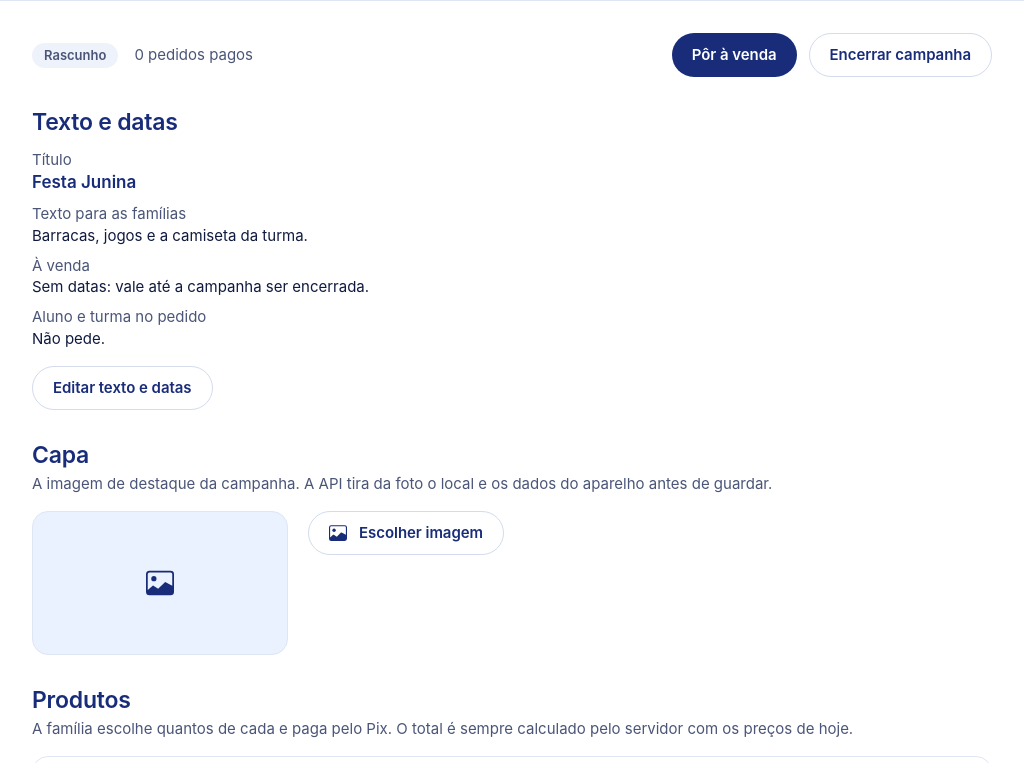
Test: editor de uma campanha › 409 (a campanha mudou por baixo): avisa e recarrega do servidor
Click the button "Editar texto e datas" at (122, 388), box [32,366,213,410]
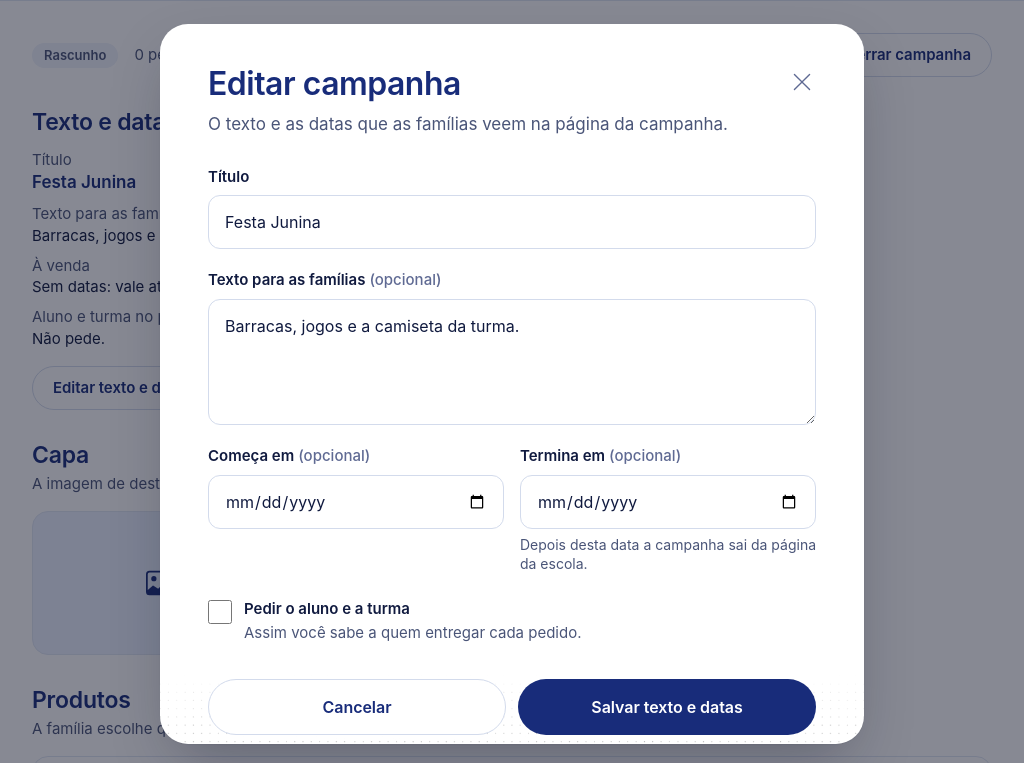
Type "!" into the field labelled "Título" at (512, 222), box [208,195,816,249]
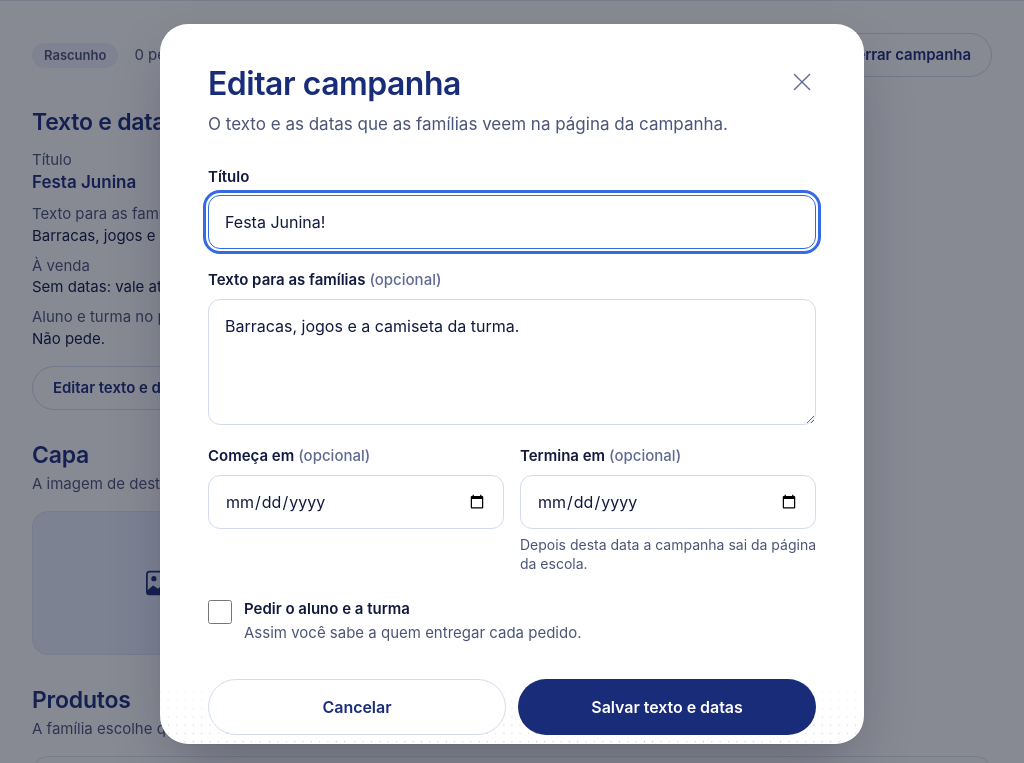
Click the button "Salvar texto e datas" at (667, 707), box [518,679,816,735]
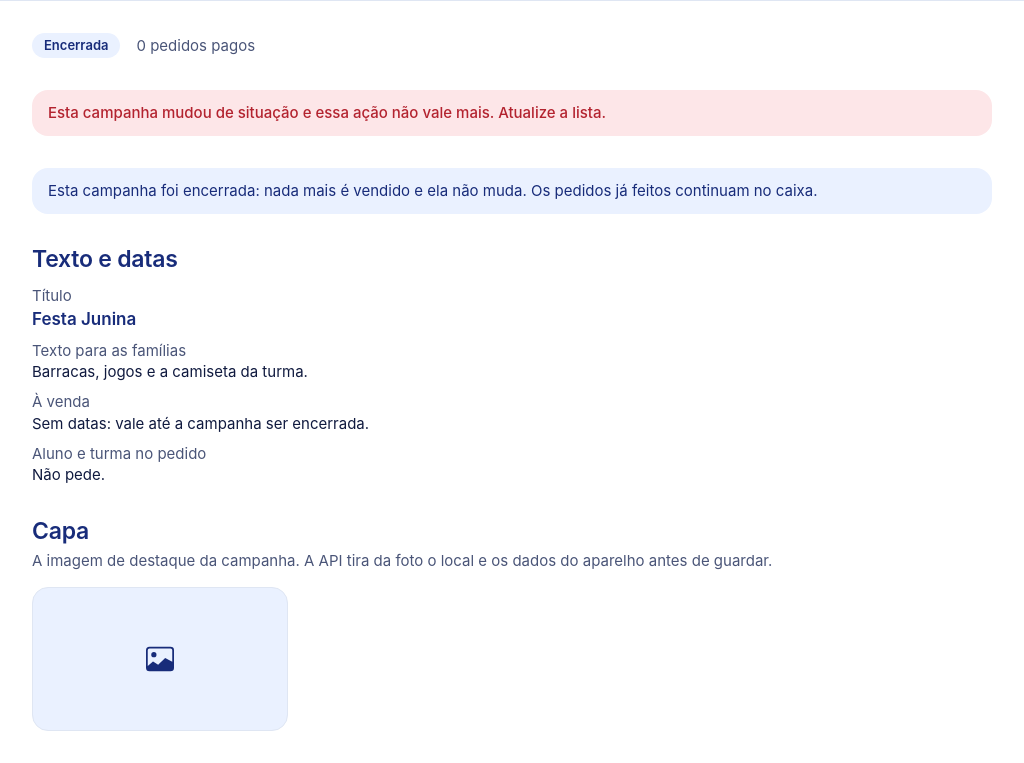
Now the text "foi encerrada" is shown, box [48,181,818,200]
